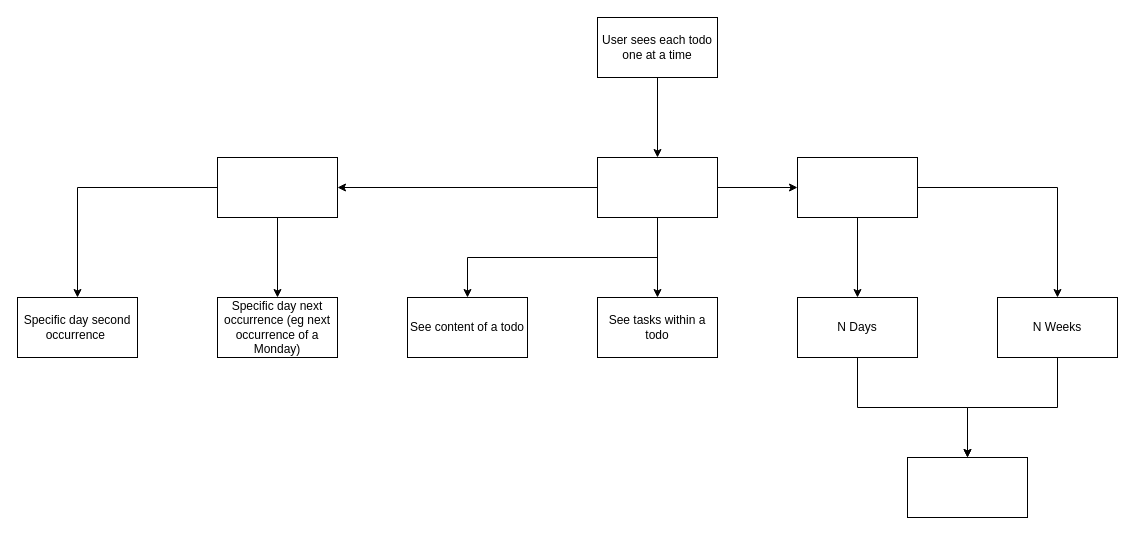
This 1135x541 diagram has some shape labels left out. The shapes that lost their labels are listed below. From the top down, each one's box as (x1, y1, x2, y2) in pixels, then its label:
(216, 156, 338, 218): Set to next
(596, 156, 718, 218): User can select options per todo
(796, 156, 918, 218): Delay by
(906, 456, 1028, 518): Able to add N days and N weeks together (eg can set 2 days and 1 week from now)
